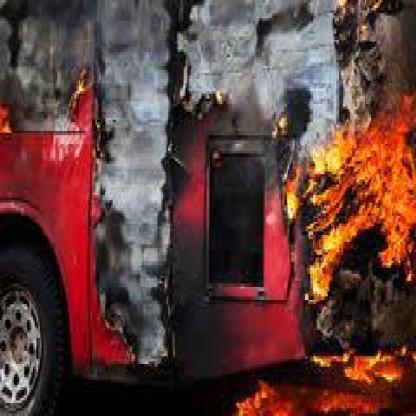fire: (276, 80, 413, 299), (230, 343, 412, 410), (71, 74, 84, 100), (0, 102, 10, 131)
